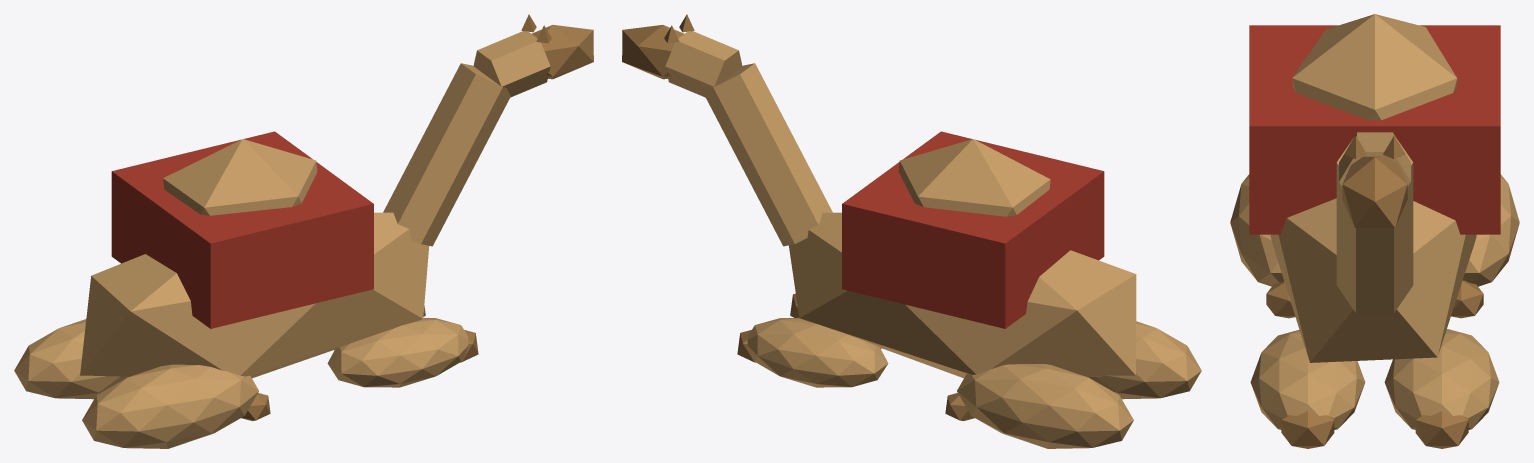
File: kamel_ligg.glb
The picture shows the model from 3 angles, left to right: view 1: azimuth 30°, elevation 25°; view 2: azimuth 150°, elevation 25°; view 3: azimuth 270°, elevation 25°; orthographic projection. The views are drawn at different scales.
Parts seen in each view (by area): view 1: kamel_ligg; view 2: kamel_ligg; view 3: kamel_ligg.
Part boxes in pixels (left/top/right/bottom): kamel_ligg: left=14, top=14, right=593, bottom=448; kamel_ligg: left=622, top=14, right=1201, bottom=448; kamel_ligg: left=1230, top=14, right=1519, bottom=448.
Size of the model in its own units: 3.3 by 1.77 by 1.21.
